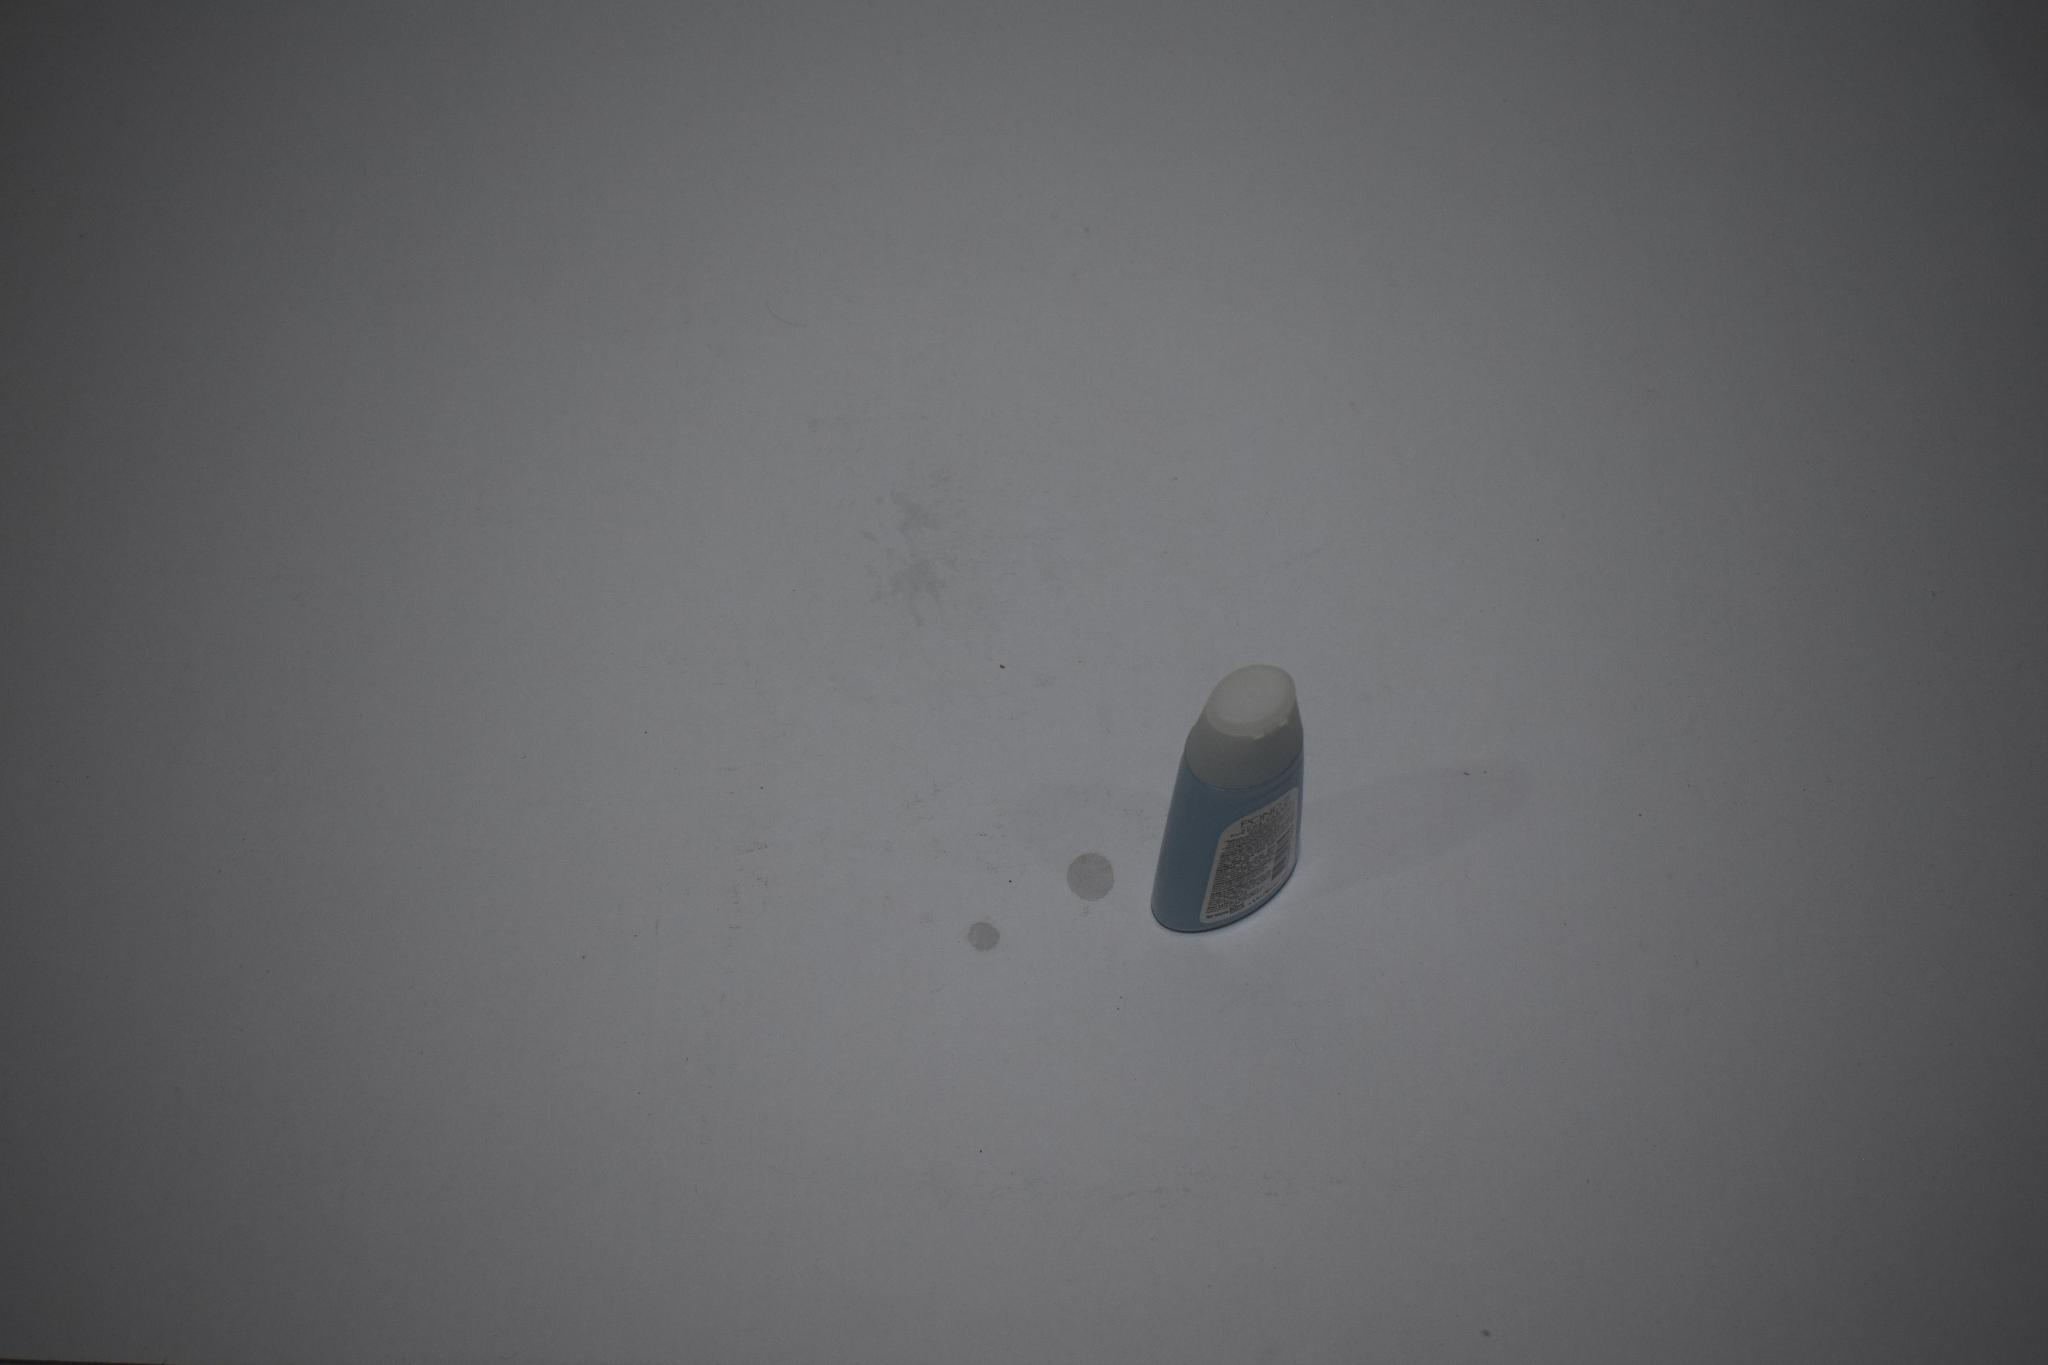bottle: (1137, 647, 1359, 949)
